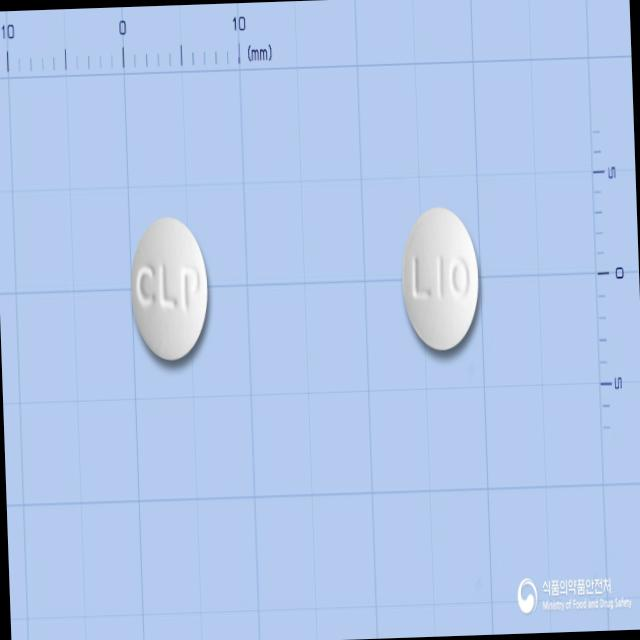Luarva - 20mg: (128, 212, 212, 362), (399, 206, 482, 354)
